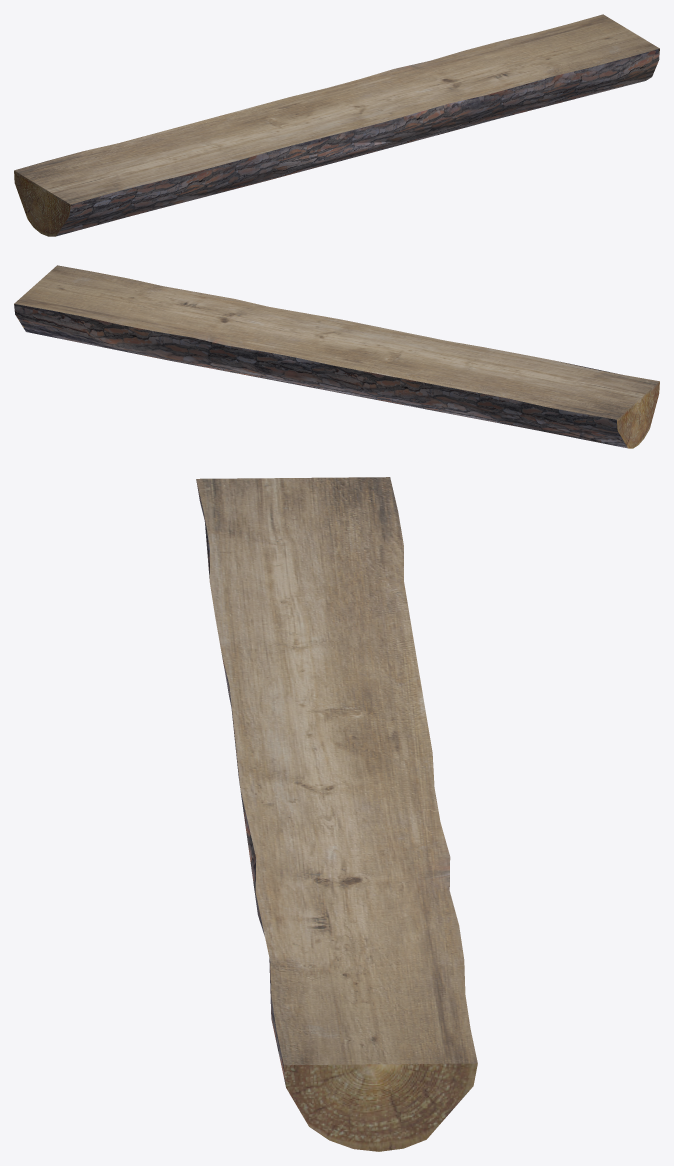
File: trunkmiddle.FBX
The picture shows the model from 3 angles, top to bottom: view 1: azimuth 30°, elevation 25°; view 2: azimuth 150°, elevation 25°; view 3: azimuth 270°, elevation 25°; orthographic projection. The views are drawn at different scales.
Parts seen in each view (by area): view 1: trunkmiddle; view 2: trunkmiddle; view 3: trunkmiddle.
Part boxes in pixels (left/top/right/bottom): trunkmiddle: left=14, top=14, right=659, bottom=236; trunkmiddle: left=14, top=265, right=659, bottom=448; trunkmiddle: left=196, top=477, right=477, bottom=1151.
Bounding box in the file's own units: 398 × 35.44 × 82.82.
